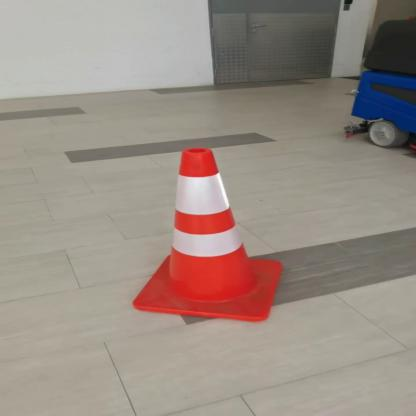cone: (128, 142, 284, 324)
